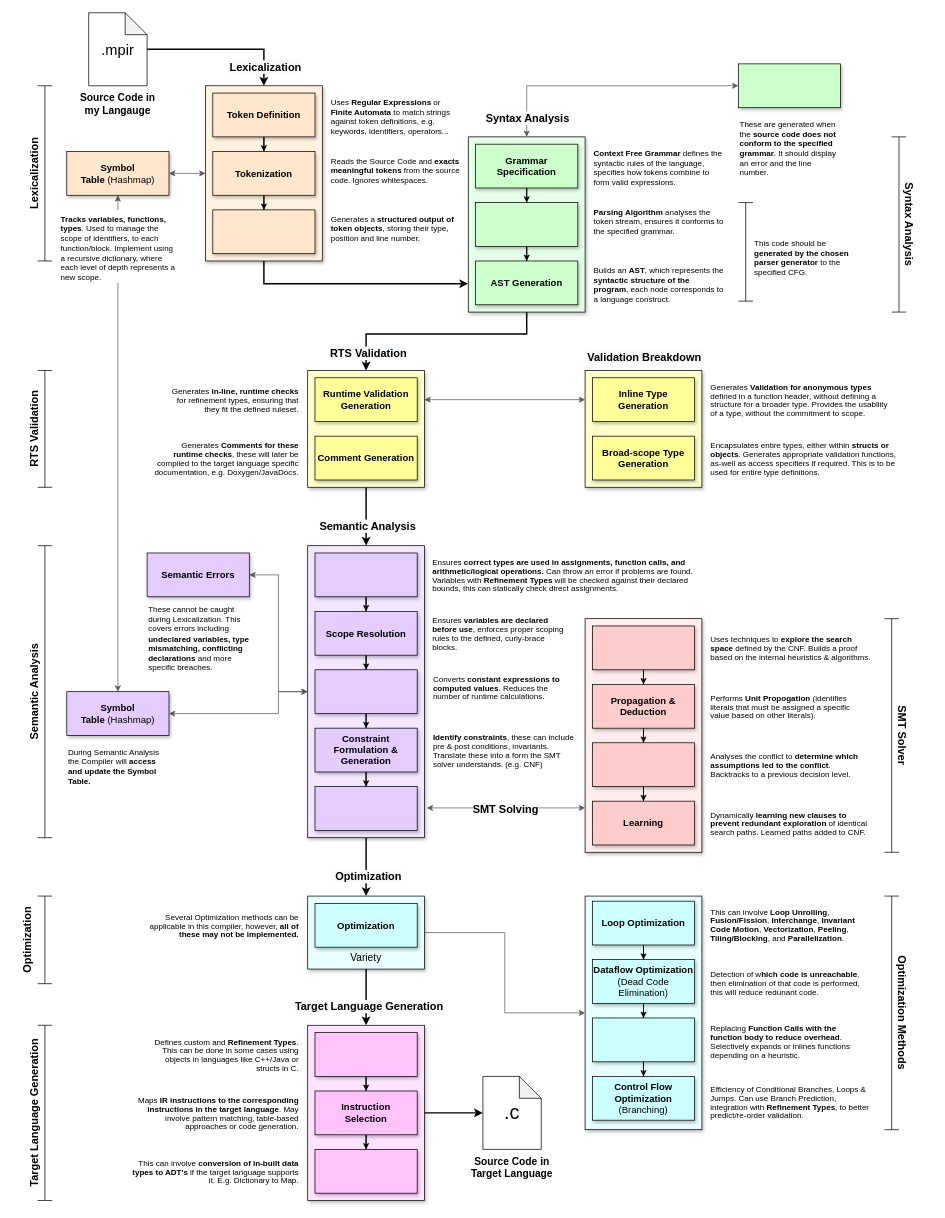
The diagram is 945 pixels wide and 1218 high, and some of its shapes have lost their labels. The shapes that lost their labels are listed below. From the top down, each one's centre as x and y in pixels, then its label:
At point 790,86: "Syntax Errors".
At point 264,232: "Token Output".
At point 527,225: "Parsing Algorithm".
At point 366,575: "Type Checking".
At point 644,648: "CNF Solving".
At point 366,692: "Constant Folding (Reduction)".
At point 644,765: "Conflict Analysis & Resolution".
At point 366,809: "SMT Solver Invokation".
At point 366,1055: "Type Definition".
At point 644,1040: "Inline Expansion".
At point 366,1172: "Language Specific Optimization".
